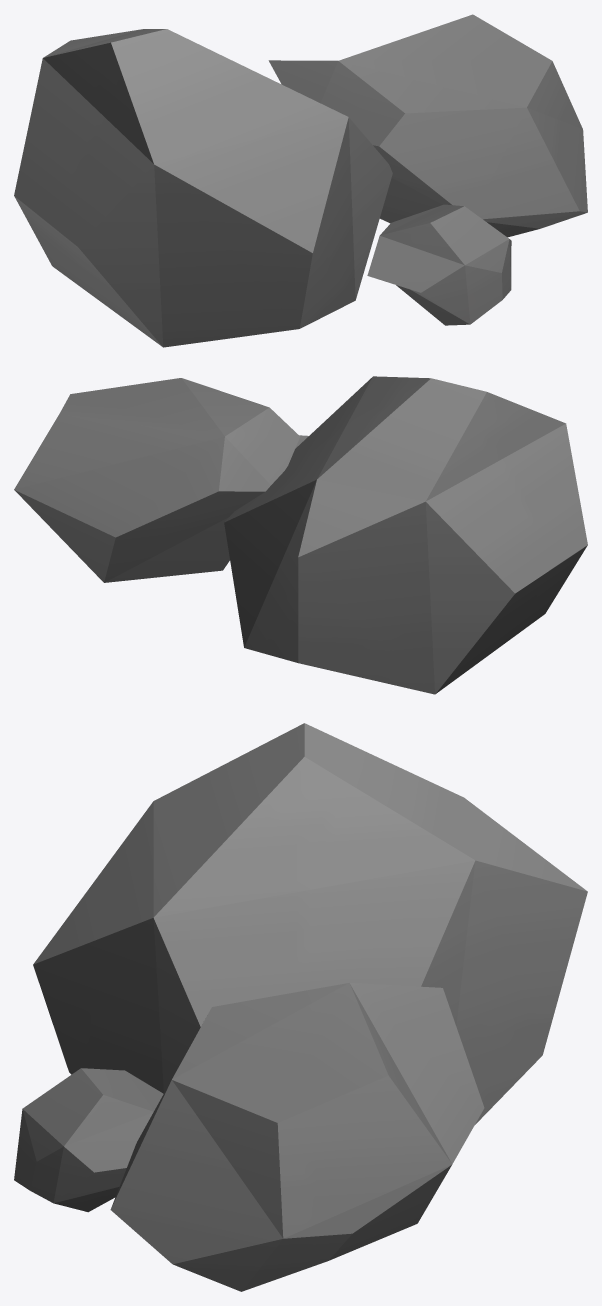
File: rocks4.glb
3 renders of one model, top to bottom at view 1: azimuth 30°, elevation 25°; view 2: azimuth 150°, elevation 25°; view 3: azimuth 270°, elevation 25°, orthographic. The views are drawn at different scales.
Visible parts, largest first — view 1: rocks4; view 2: rocks4; view 3: rocks4.
Part boxes in pixels (left/top/right/bottom): rocks4: left=14, top=14, right=587, bottom=347; rocks4: left=14, top=376, right=587, bottom=694; rocks4: left=14, top=723, right=587, bottom=1291.
Bounding box in the file's own units: 1.07 × 0.518 × 0.8171.
Materials: 1 (1 with a texture image).
